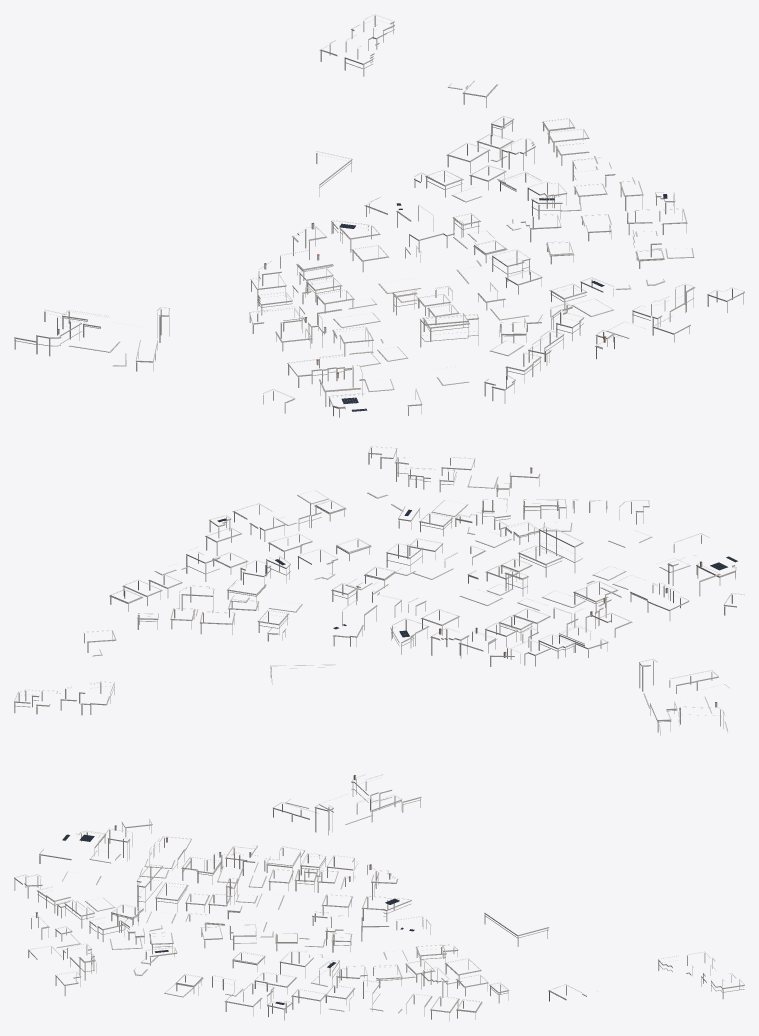
The picture shows the model from 3 angles, top to bottom: view 1: azimuth 30°, elevation 25°; view 2: azimuth 150°, elevation 25°; view 3: azimuth 270°, elevation 25°; orthographic projection. The views are drawn at different scales.
Parts seen in each view (by area): view 1: detail; view 2: detail; view 3: detail.
Boxes of the visible parts, bbox=[...] form: detail: bbox=[14, 14, 744, 417]; detail: bbox=[14, 446, 744, 735]; detail: bbox=[14, 774, 744, 1021].
Bounding box in the file's own units: 299 × 27.33 × 343.
